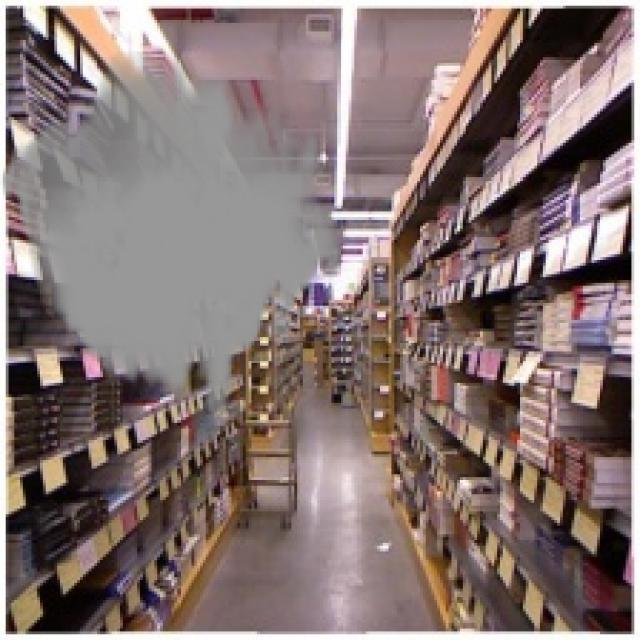Smoke: (0, 51, 343, 412)
